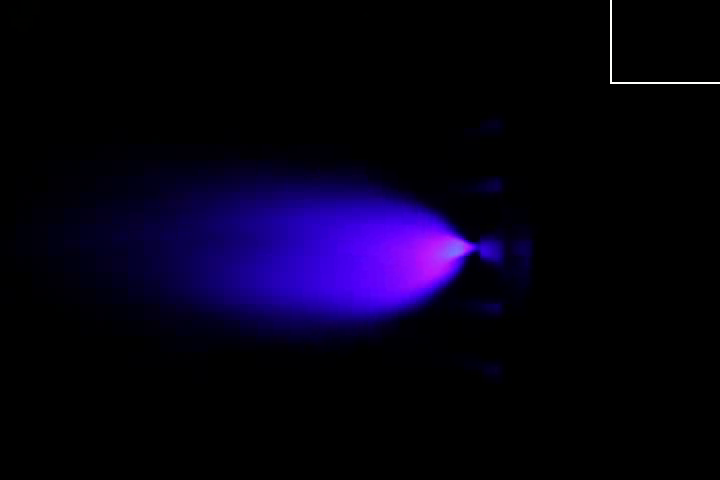burner cap: (478, 233, 510, 270)
stable: (364, 202, 479, 297)
